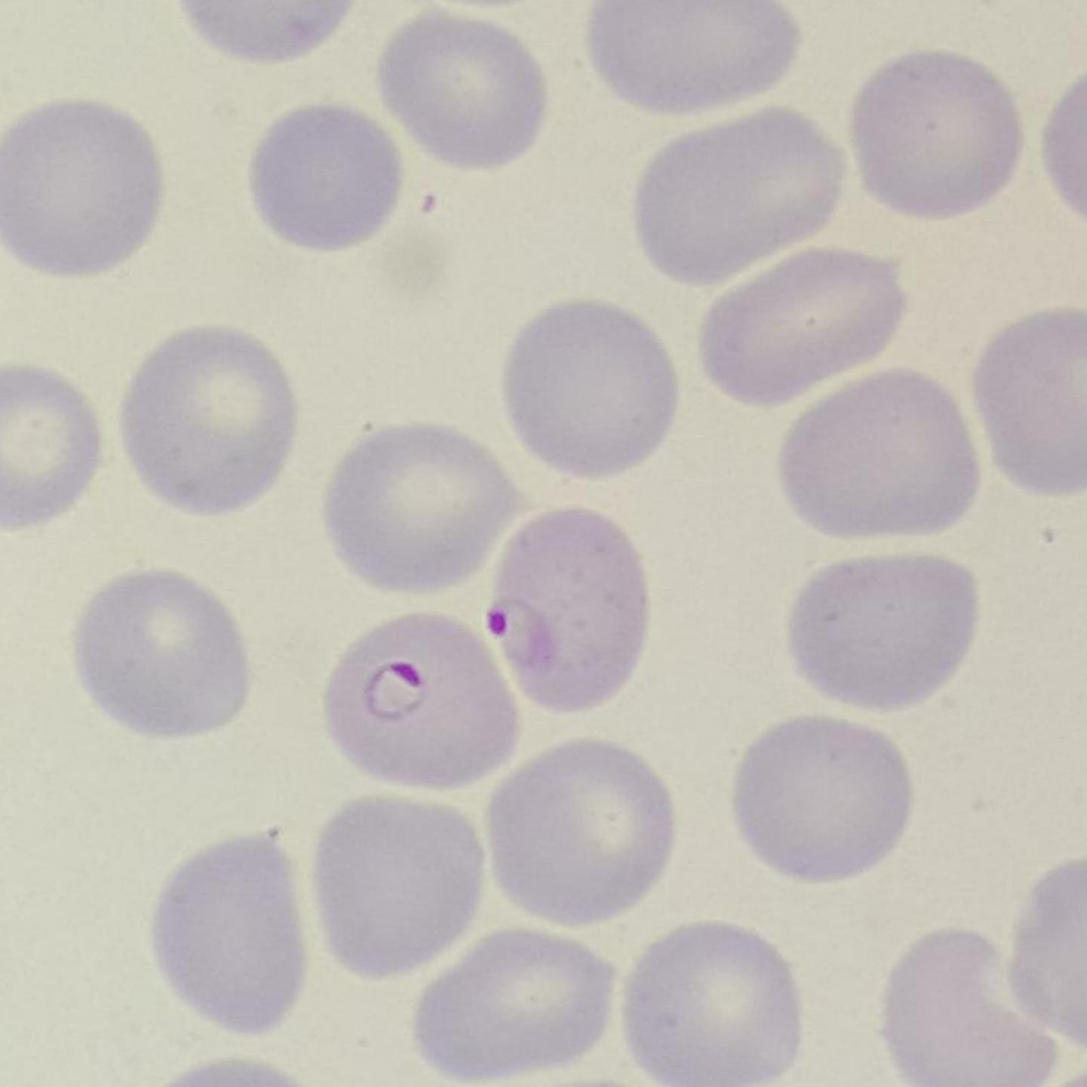Infected: (324, 614, 517, 787), (490, 510, 648, 710)
Uninfected: (636, 115, 839, 283), (487, 742, 671, 924), (123, 328, 296, 512), (781, 371, 973, 536), (326, 425, 514, 591), (702, 247, 901, 403), (508, 298, 677, 480), (315, 799, 486, 977), (154, 834, 306, 1032), (415, 930, 612, 1082), (73, 573, 247, 739), (734, 720, 910, 884), (790, 554, 972, 711), (625, 926, 797, 1087), (1, 99, 160, 272), (854, 51, 1018, 213), (379, 14, 546, 165), (882, 936, 1049, 1086), (592, 1, 793, 112), (250, 106, 401, 250)
